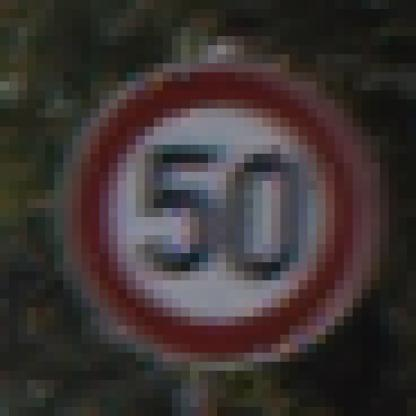Speed Limit 50: (76, 64, 360, 364)
